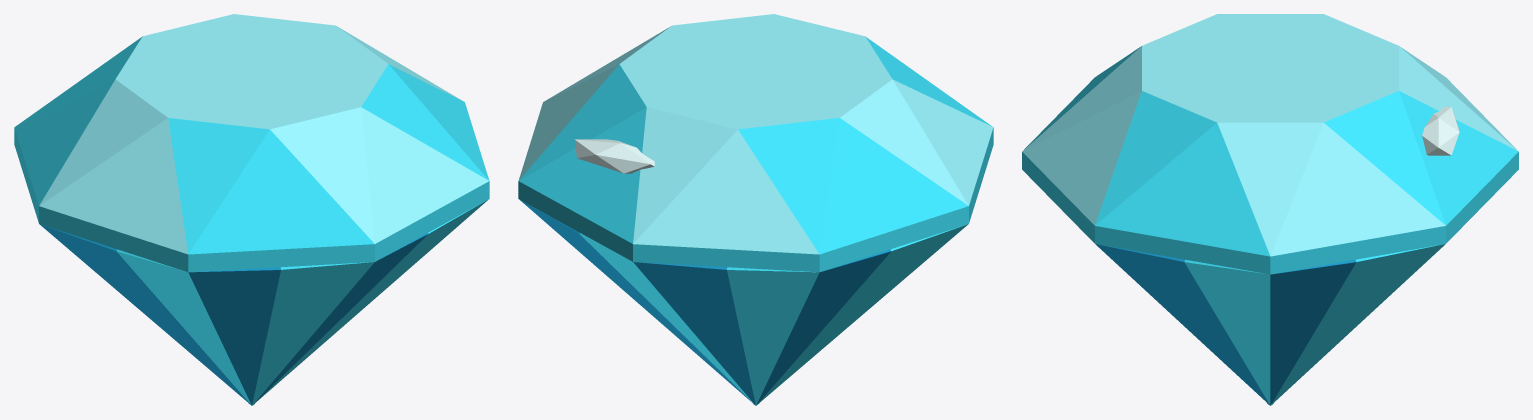
The model's file is Gem.fbx.
The picture shows the model from 3 angles, left to right: view 1: azimuth 30°, elevation 25°; view 2: azimuth 150°, elevation 25°; view 3: azimuth 270°, elevation 25°; orthographic projection.
Visible parts, largest first — view 1: GemLight, GemMid, GemDark; view 2: GemLight, GemMid, GemDark, GemShine; view 3: GemLight, GemMid, GemDark, GemShine.
Part boxes in pixels (<box>): GemLight: <box>39,14,488,254</box>; GemMid: <box>14,36,489,405</box>; GemDark: <box>39,224,428,405</box>; GemLight: <box>518,14,993,254</box>; GemMid: <box>518,36,993,405</box>; GemDark: <box>519,199,891,405</box>; GemShine: <box>574,139,654,173</box>; GemLight: <box>1022,14,1517,256</box>; GemMid: <box>1022,46,1518,405</box>; GemDark: <box>1095,244,1356,405</box>; GemShine: <box>1422,107,1459,155</box>.
Bounding box in the file's own units: 2 × 1.5 × 2.
